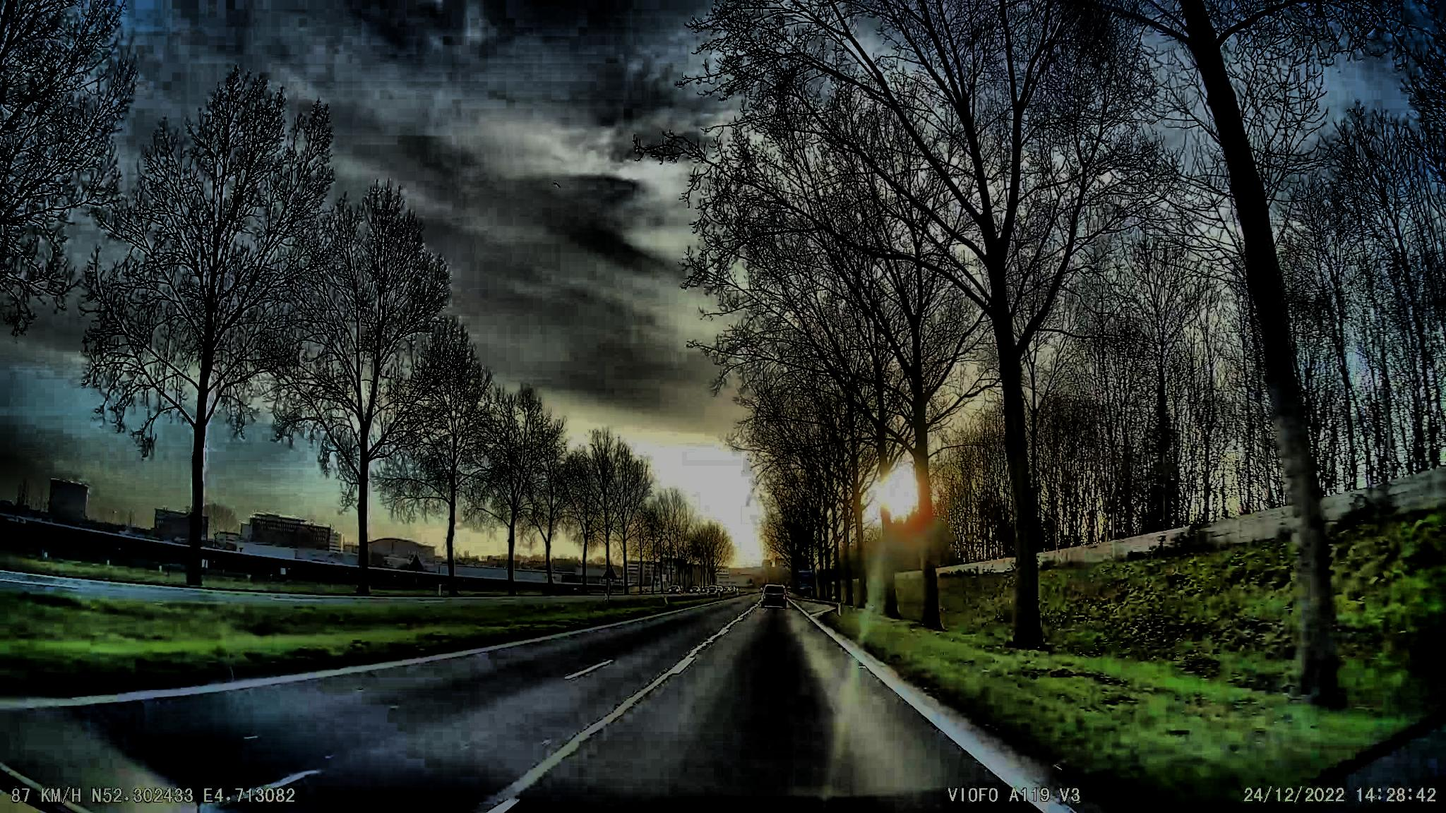Roads: (0, 597, 1096, 813)
